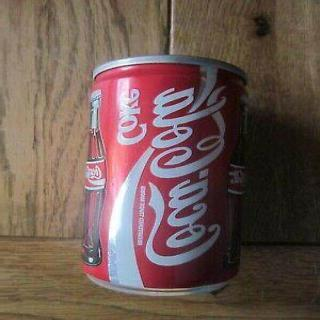Anorganik: (79, 46, 258, 304)
